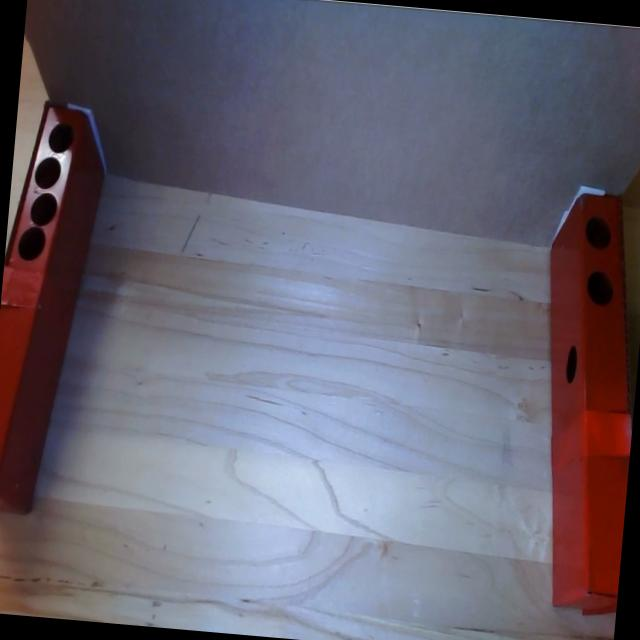Hole: (16, 224, 46, 265), (586, 266, 614, 308), (29, 190, 58, 227), (34, 154, 62, 190), (48, 120, 76, 154), (585, 215, 611, 251), (564, 342, 578, 386)
